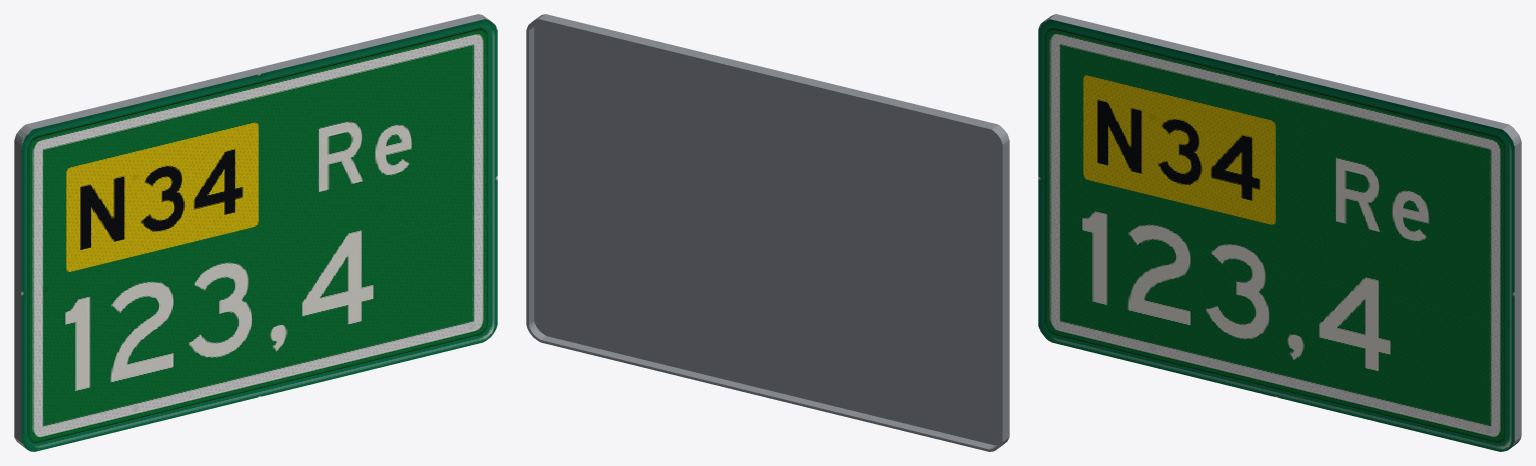
The picture shows the model from 3 angles, left to right: view 1: azimuth 30°, elevation 25°; view 2: azimuth 150°, elevation 25°; view 3: azimuth 330°, elevation 25°; orthographic projection.
Visible parts, largest first — view 1: cat_378af24d8d1148b2; view 2: cat_378af24d8d1148b2; view 3: cat_378af24d8d1148b2.
Part boxes in pixels (box(x1,y1,x2,y2)): cat_378af24d8d1148b2: box(14, 14, 497, 451); cat_378af24d8d1148b2: box(526, 14, 1009, 451); cat_378af24d8d1148b2: box(1038, 14, 1521, 451).
Size of the model in its own units: 0.6 by 0.015 by 0.3889.
2 materials, 1 textured.
